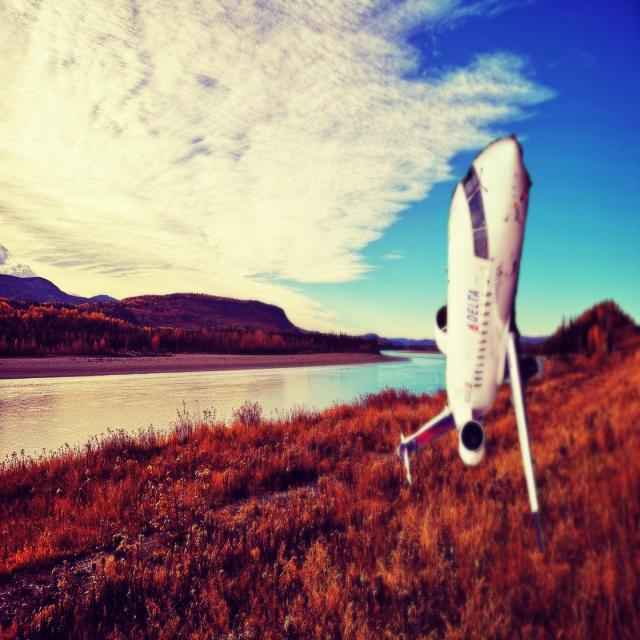airplane: (394, 132, 546, 552)
